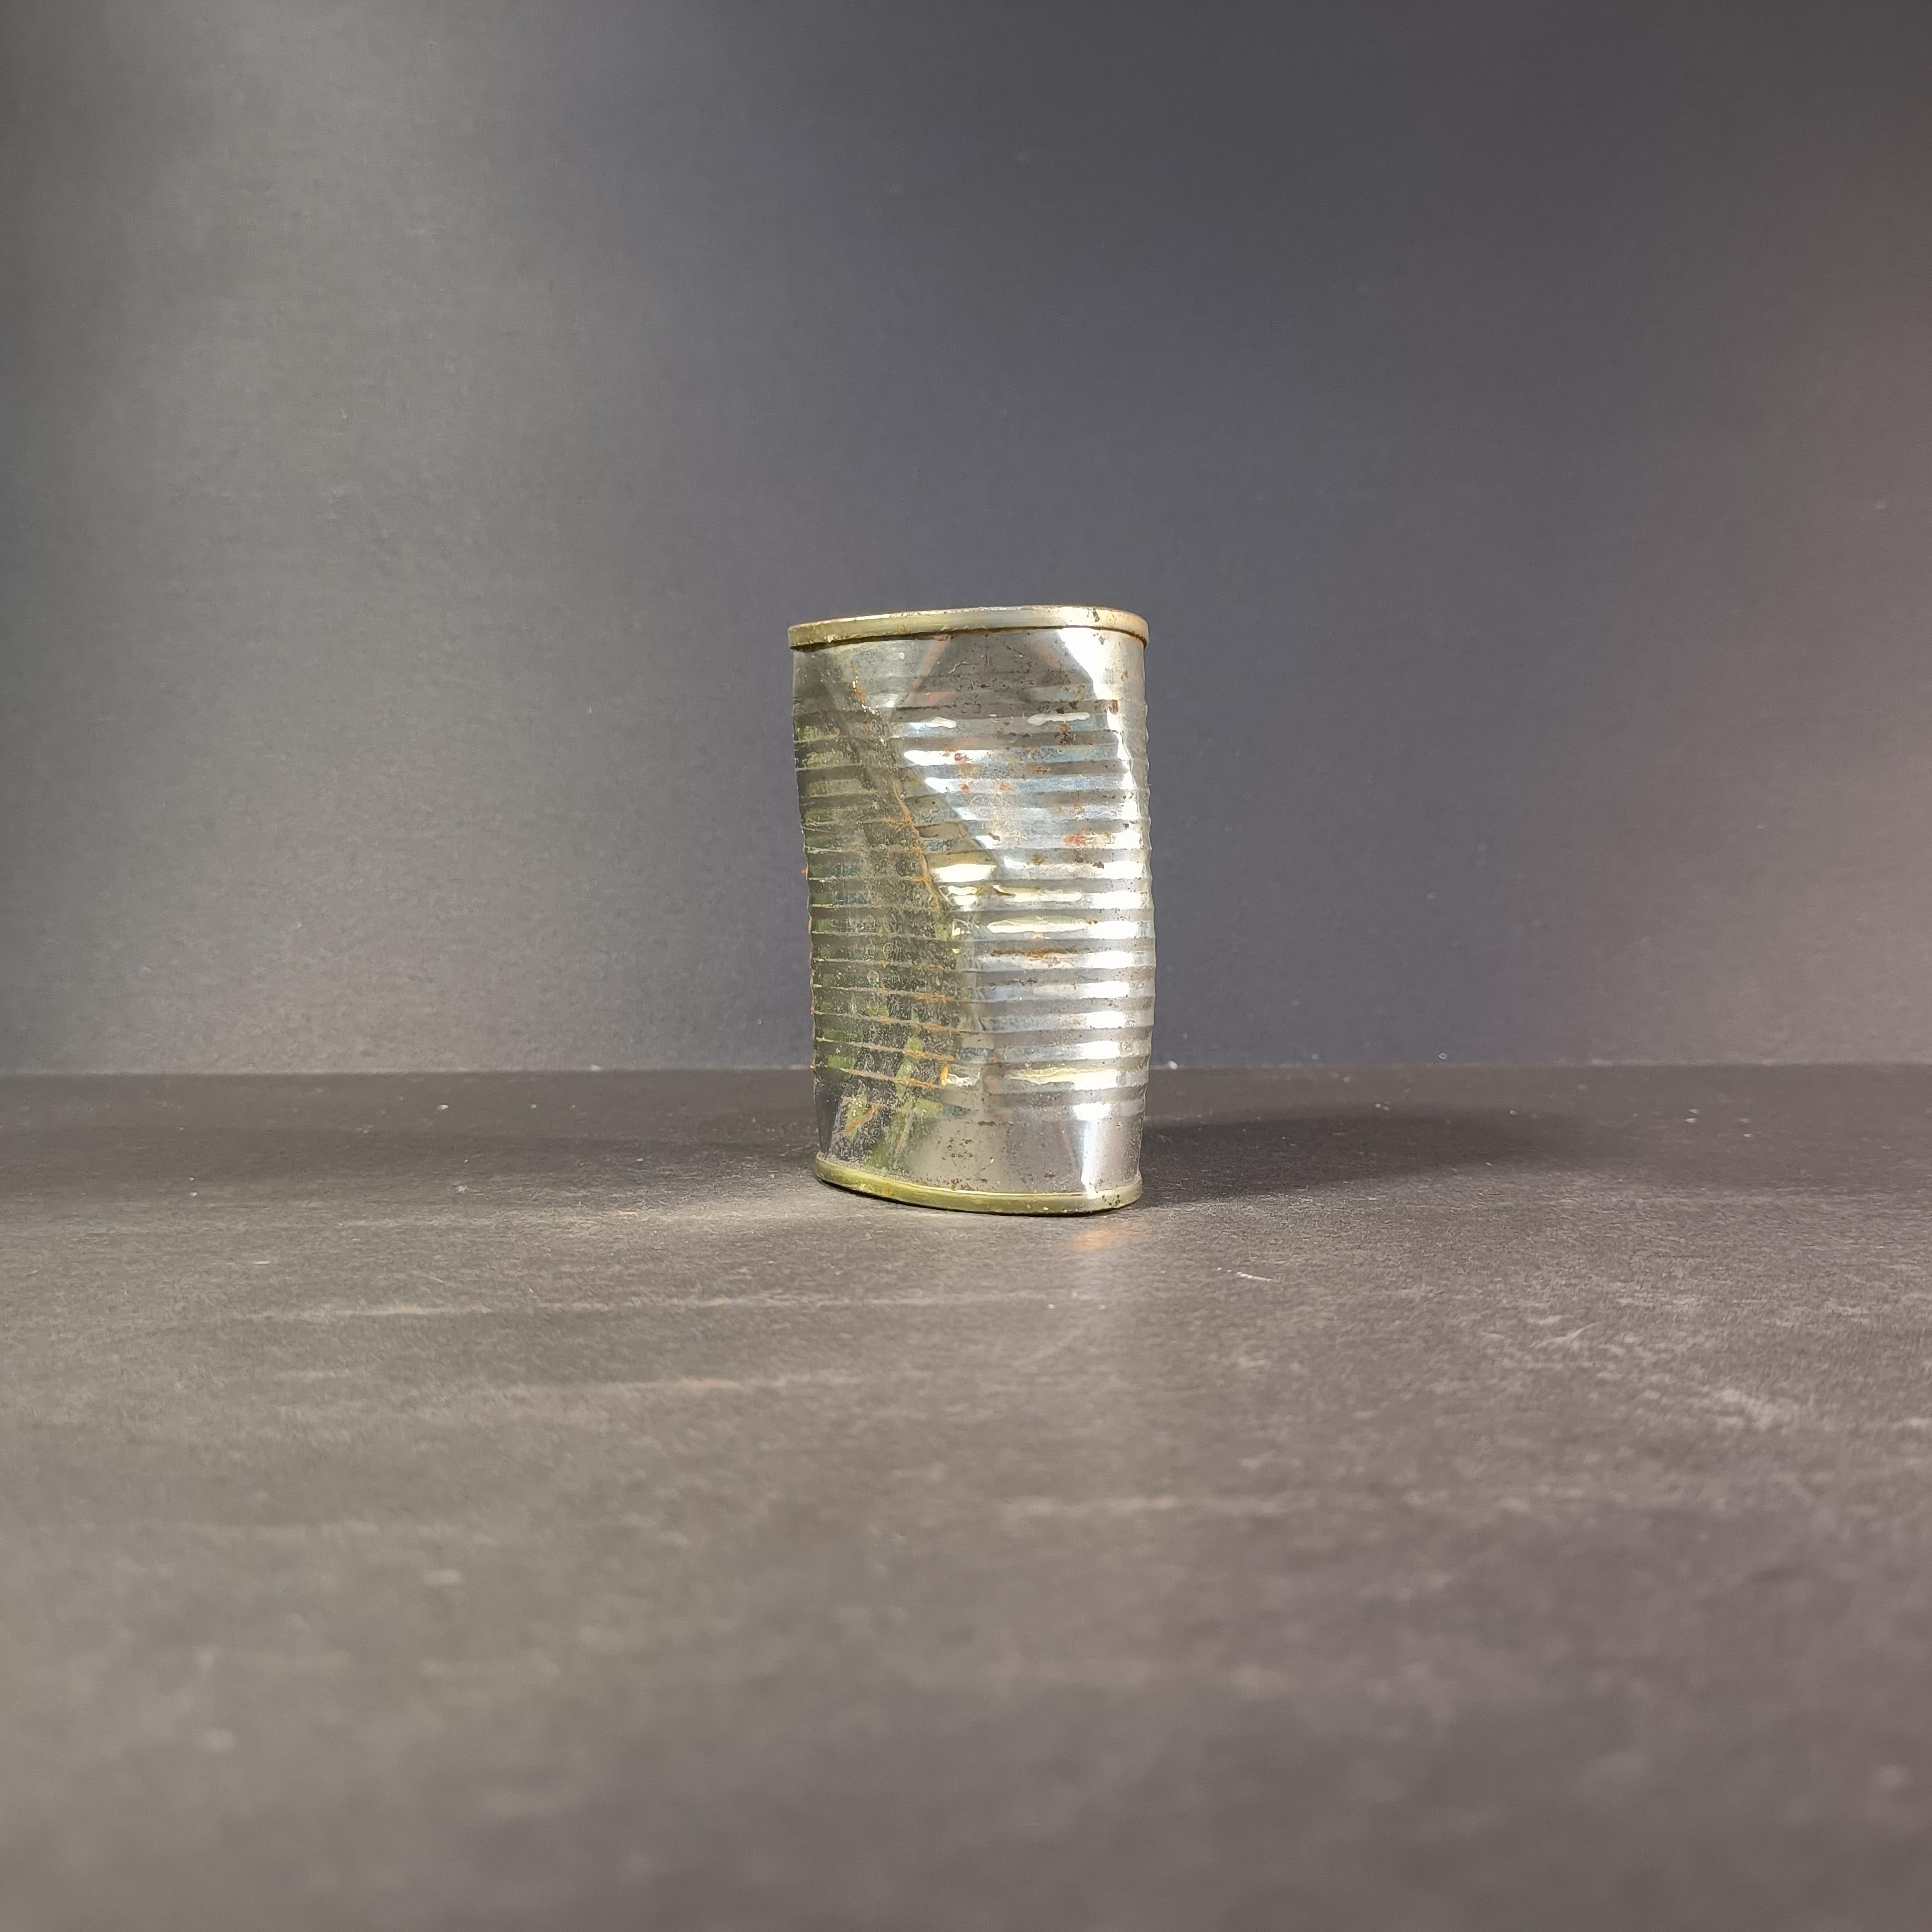Dented: (764, 573, 1171, 1224)
